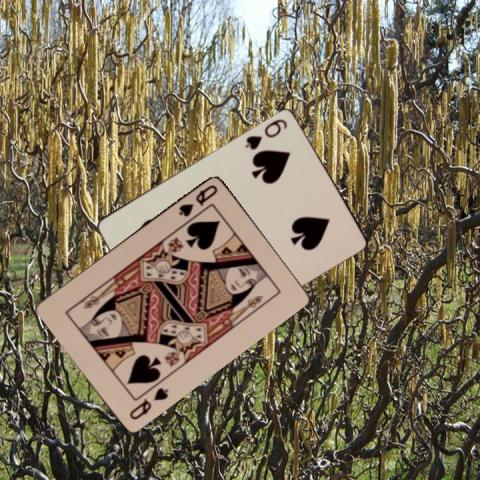6s: (242, 116, 289, 152)
Qs: (176, 181, 220, 218), (126, 384, 170, 421)
